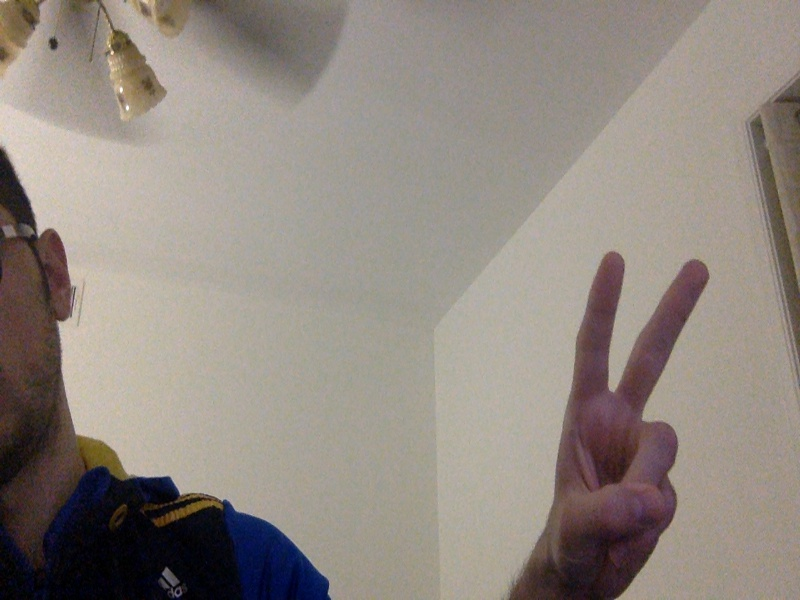2-hand: (548, 252, 713, 592)
